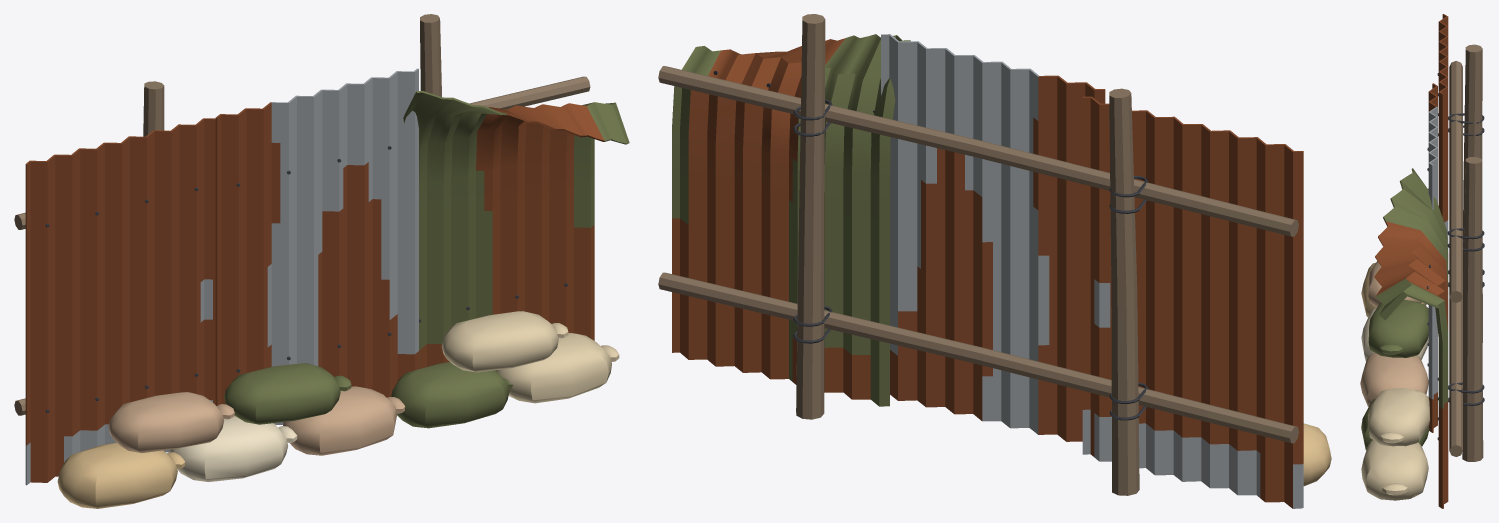
Rendered from deco_salvage_corrugated_screen.fbx.
3 views of the same model, side by side, from view 1: azimuth 30°, elevation 25°; view 2: azimuth 150°, elevation 25°; view 3: azimuth 270°, elevation 25° (orthographic). The views are drawn at different scales.
Visible parts, largest first — view 1: Salvage_CorrugatedScreen_SheetGrey, Salvage_CorrugatedScreen_SheetRusted, Salvage_CorrugatedScreen_Sandbags, Salvage_CorrugatedScreen_SheetBent, Salvage_CorrugatedScreen_Frame; view 2: Salvage_CorrugatedScreen_SheetRusted, Salvage_CorrugatedScreen_SheetGrey, Salvage_CorrugatedScreen_SheetBent, Salvage_CorrugatedScreen_Frame, Salvage_CorrugatedScreen_Sandbags; view 3: Salvage_CorrugatedScreen_Frame, Salvage_CorrugatedScreen_Sandbags, Salvage_CorrugatedScreen_SheetBent, Salvage_CorrugatedScreen_SheetGrey, Salvage_CorrugatedScreen_SheetRusted.
Part boxes in pixels (left/top/right/bottom): Salvage_CorrugatedScreen_SheetGrey: left=215, top=68, right=418, bottom=424; Salvage_CorrugatedScreen_SheetRusted: left=25, top=118, right=215, bottom=485; Salvage_CorrugatedScreen_Sandbags: left=57, top=311, right=619, bottom=508; Salvage_CorrugatedScreen_SheetBent: left=403, top=90, right=629, bottom=368; Salvage_CorrugatedScreen_Frame: left=14, top=14, right=590, bottom=415; Salvage_CorrugatedScreen_SheetRusted: left=1082, top=96, right=1303, bottom=508; Salvage_CorrugatedScreen_SheetGrey: left=881, top=34, right=1105, bottom=441; Salvage_CorrugatedScreen_SheetBent: left=672, top=34, right=910, bottom=406; Salvage_CorrugatedScreen_Frame: left=658, top=14, right=1298, bottom=495; Salvage_CorrugatedScreen_Sandbags: left=1303, top=423, right=1331, bottom=486; Salvage_CorrugatedScreen_Frame: left=1447, top=44, right=1484, bottom=461; Salvage_CorrugatedScreen_Sandbags: left=1360, top=261, right=1429, bottom=500; Salvage_CorrugatedScreen_SheetBent: left=1374, top=168, right=1448, bottom=508; Salvage_CorrugatedScreen_SheetGrey: left=1427, top=83, right=1437, bottom=432; Salvage_CorrugatedScreen_SheetRusted: left=1437, top=14, right=1448, bottom=258.
Bounding box in the file's own units: 400 × 240 × 91.49.
